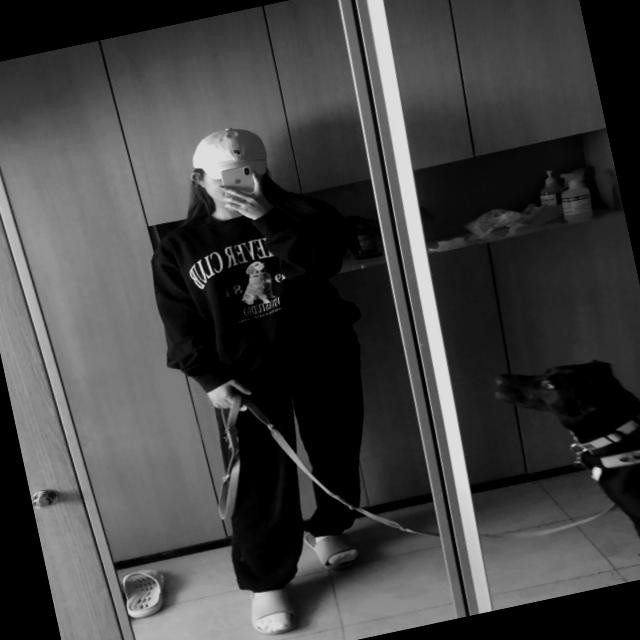mtm: (133, 166, 380, 412)
trainingpants: (188, 311, 406, 592)
